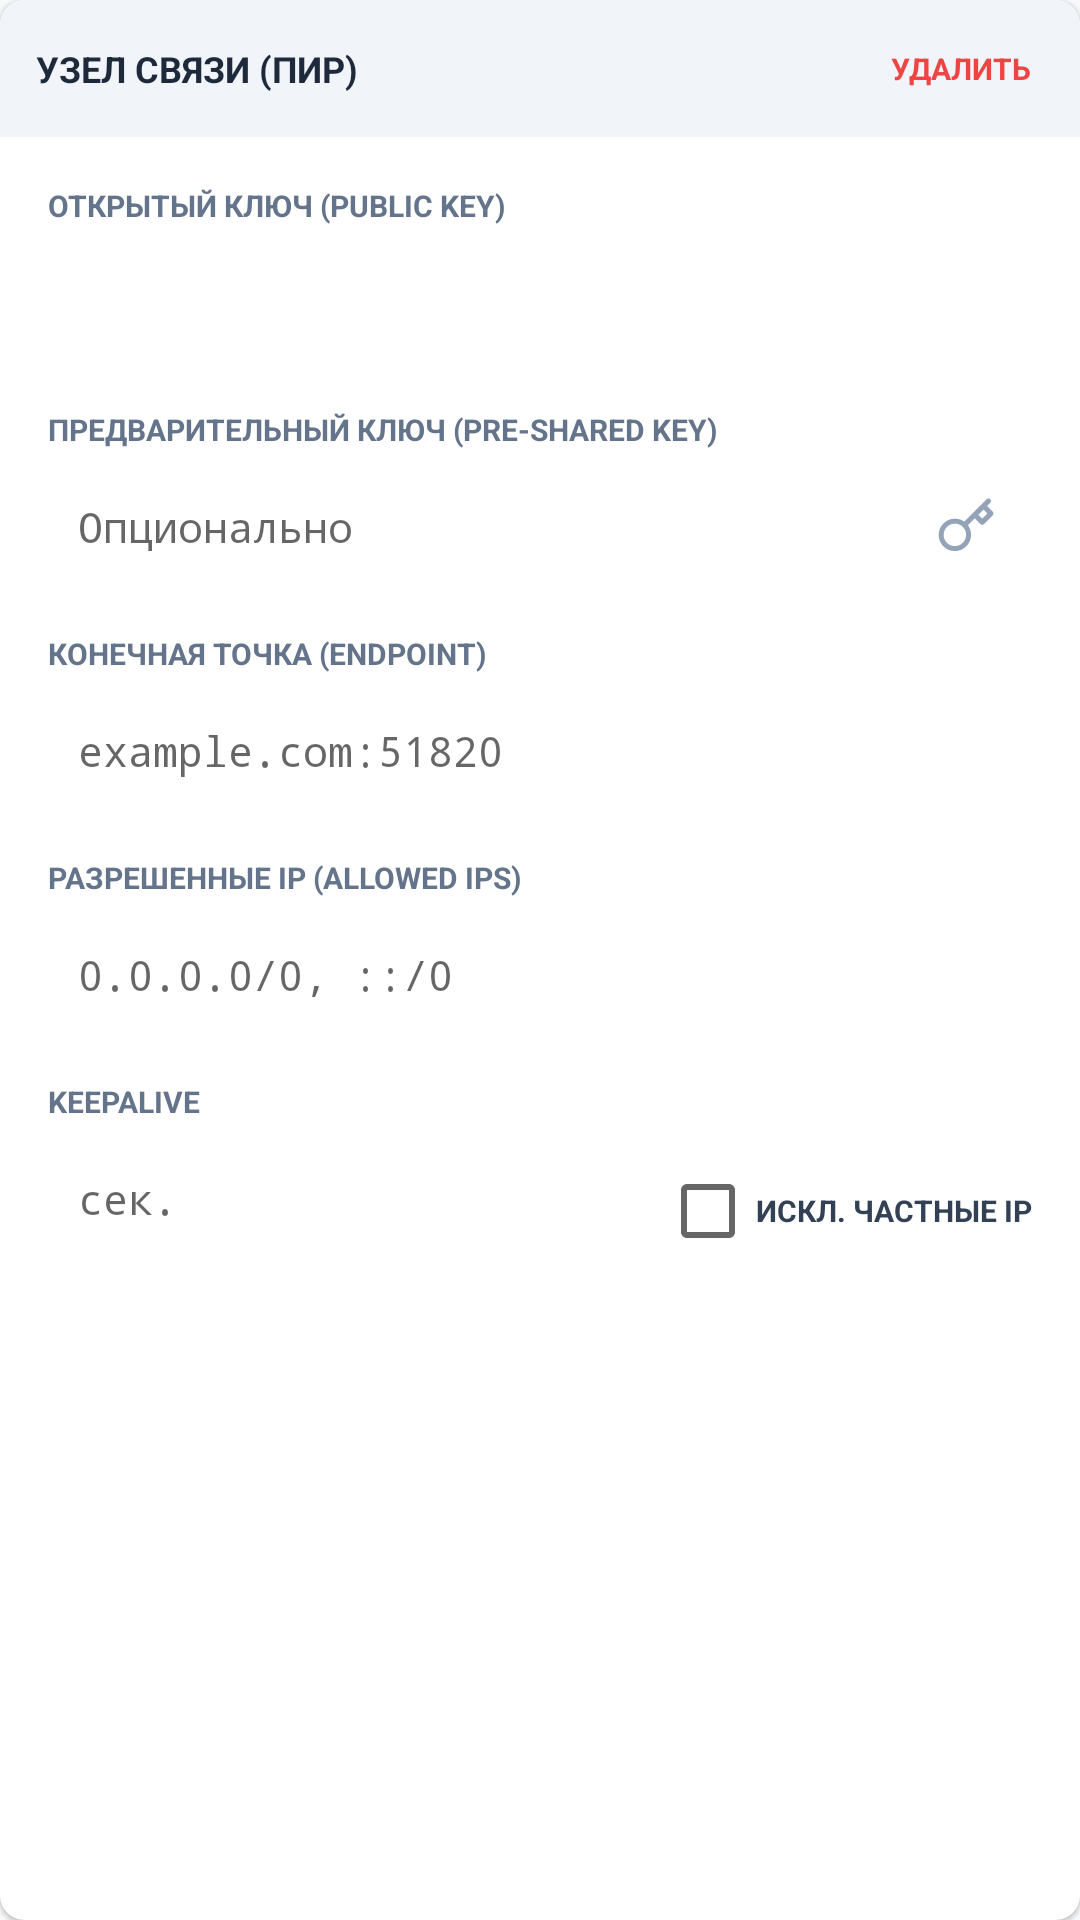

Where to tap for icons on this 1080x1920 app screen, as point (x, y):
key: point (966, 524)
